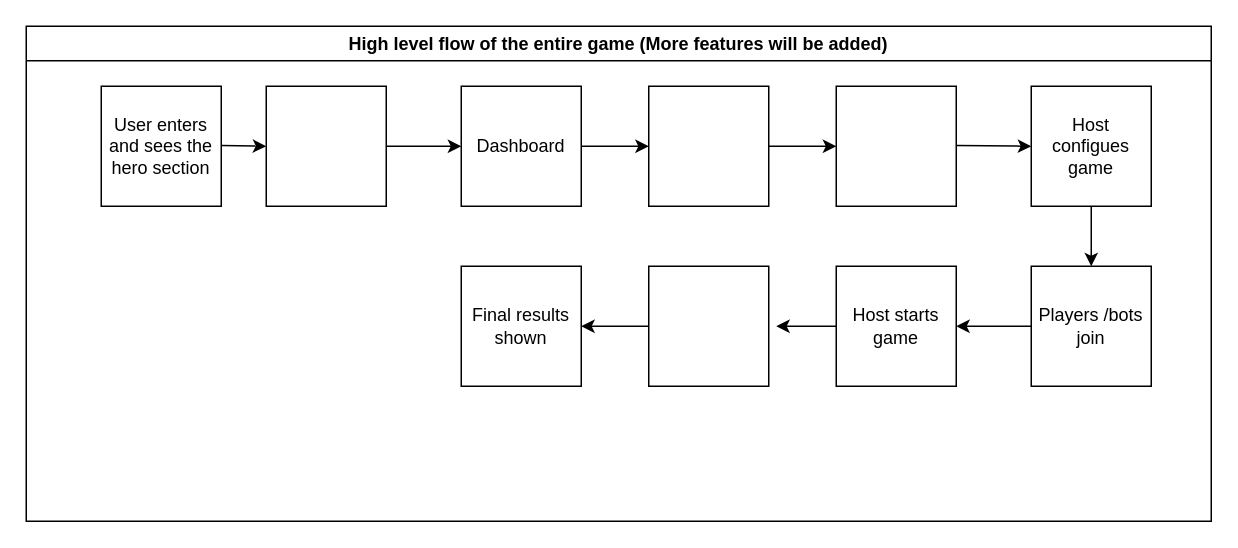
The diagram is 1238 pixels wide and 548 high, and some of its shapes have lost their labels. Here are the shapes that lost their labels. From the top down, the centre of each, then its label:
(x=325, y=145): User signs up/logs in/guest
(x=708, y=145): Create room or join room
(x=895, y=145): room lobby
(x=708, y=325): Game phases run
